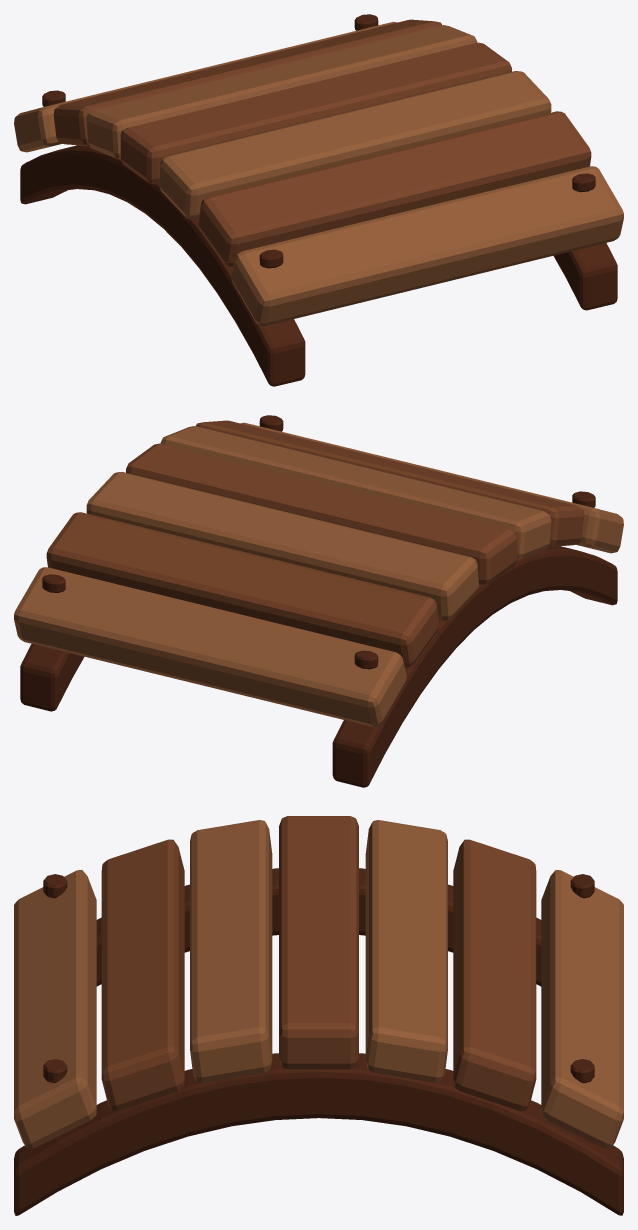
Rendered from SmallWoodenBridge.glb.
3 views of the same model, one above another, from view 1: azimuth 30°, elevation 25°; view 2: azimuth 150°, elevation 25°; view 3: azimuth 270°, elevation 25° (orthographic). The views are drawn at different scales.
Visible parts, largest first — view 1: SmallWoodenBridge_PlanksLight, SmallWoodenBridge_PlanksWarm, SmallWoodenBridge_Stringers, SmallWoodenBridge_Pegs; view 2: SmallWoodenBridge_PlanksLight, SmallWoodenBridge_PlanksWarm, SmallWoodenBridge_Stringers, SmallWoodenBridge_Pegs; view 3: SmallWoodenBridge_PlanksLight, SmallWoodenBridge_PlanksWarm, SmallWoodenBridge_Stringers, SmallWoodenBridge_Pegs.
Boxes of the visible parts, left/top/right/bottom form: SmallWoodenBridge_PlanksLight: left=14, top=21, right=623, bottom=326; SmallWoodenBridge_PlanksWarm: left=53, top=19, right=591, bottom=266; SmallWoodenBridge_Stringers: left=20, top=145, right=617, bottom=386; SmallWoodenBridge_Pegs: left=42, top=14, right=595, bottom=268; SmallWoodenBridge_PlanksLight: left=14, top=422, right=623, bottom=727; SmallWoodenBridge_PlanksWarm: left=46, top=420, right=584, bottom=667; SmallWoodenBridge_Stringers: left=20, top=546, right=617, bottom=787; SmallWoodenBridge_Pegs: left=42, top=415, right=595, bottom=669; SmallWoodenBridge_PlanksLight: left=14, top=820, right=623, bottom=1149; SmallWoodenBridge_PlanksWarm: left=101, top=816, right=536, bottom=1110; SmallWoodenBridge_Stringers: left=14, top=868, right=623, bottom=1215; SmallWoodenBridge_Pegs: left=43, top=874, right=594, bottom=1083.
Bounding box in the file's own units: 0.844 × 0.3472 × 0.99.
